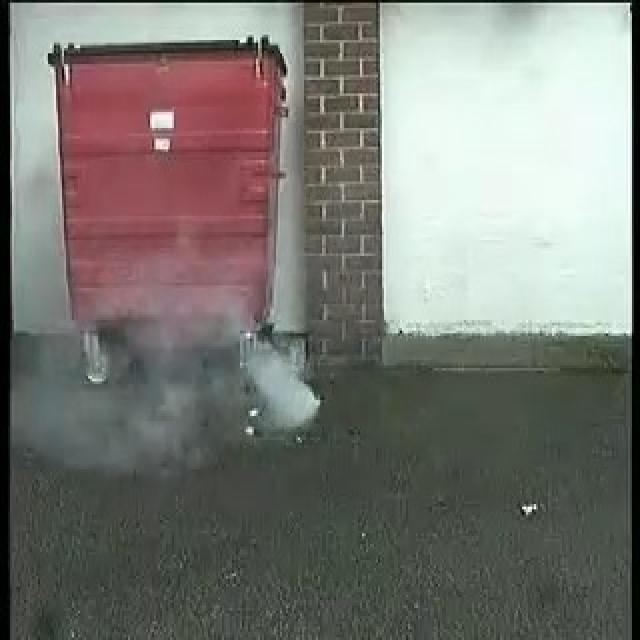Smoke: (133, 294, 323, 440)
